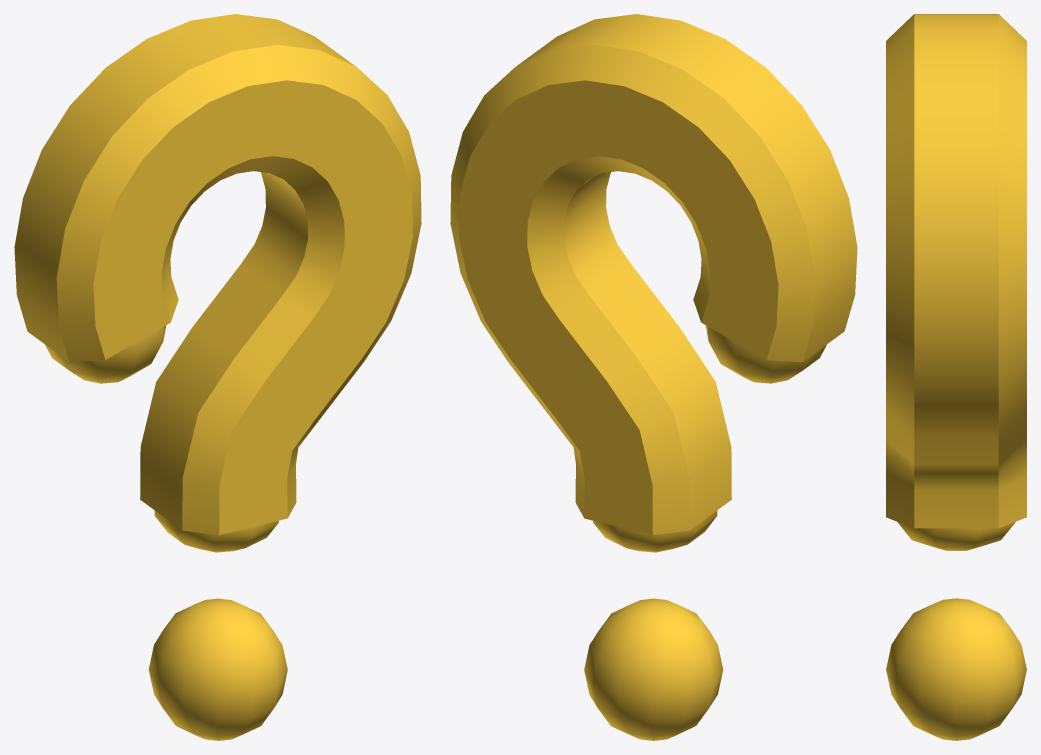
The model's file is 99_point_interrogation.fbx.
The picture shows the model from 3 angles, left to right: view 1: azimuth 30°, elevation 25°; view 2: azimuth 150°, elevation 25°; view 3: azimuth 270°, elevation 25°; orthographic projection.
Parts seen in each view (by area): view 1: Interrogation, Point; view 2: Interrogation, Point; view 3: Interrogation, Point.
Boxes of the visible parts, x1=… form: Interrogation: x1=14, y1=14, x2=421, y2=552; Point: x1=148, y1=598, x2=287, y2=740; Interrogation: x1=450, y1=14, x2=857, y2=552; Point: x1=584, y1=598, x2=723, y2=740; Interrogation: x1=886, y1=14, x2=1026, y2=550; Point: x1=886, y1=598, x2=1026, y2=740.
Bounding box in the file's own units: 0.336 × 0.616 × 0.112.
1 material, 1 textured.
